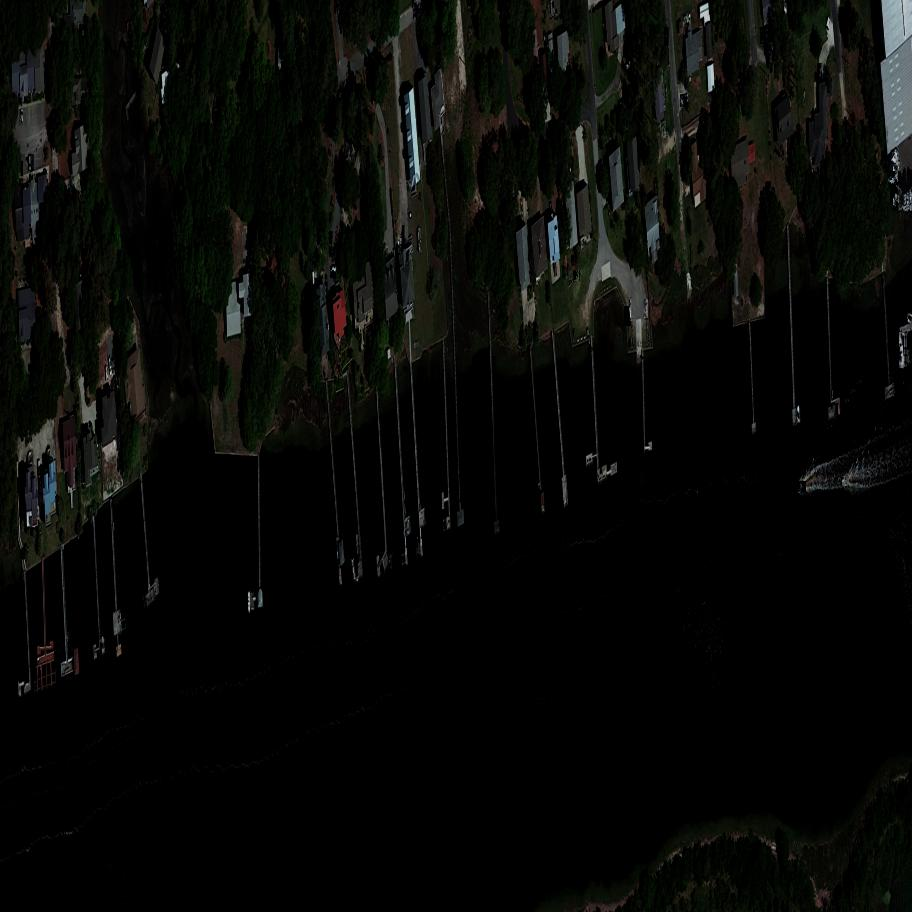ship: (350, 554, 359, 584), (900, 332, 907, 368), (893, 180, 899, 211), (100, 635, 109, 655), (680, 94, 690, 107), (891, 152, 900, 166), (893, 172, 900, 188), (796, 482, 806, 492), (843, 477, 847, 483), (418, 538, 419, 558)
small-vehicle: (826, 16, 833, 36), (625, 307, 632, 326), (760, 27, 767, 44), (664, 28, 670, 46), (765, 26, 770, 47), (28, 154, 34, 171), (818, 64, 823, 79), (645, 300, 649, 318), (330, 232, 333, 255), (20, 109, 24, 124), (573, 271, 579, 281), (399, 236, 402, 253), (630, 298, 632, 321), (664, 121, 666, 137), (21, 161, 23, 176), (403, 227, 404, 249), (331, 267, 333, 278)
